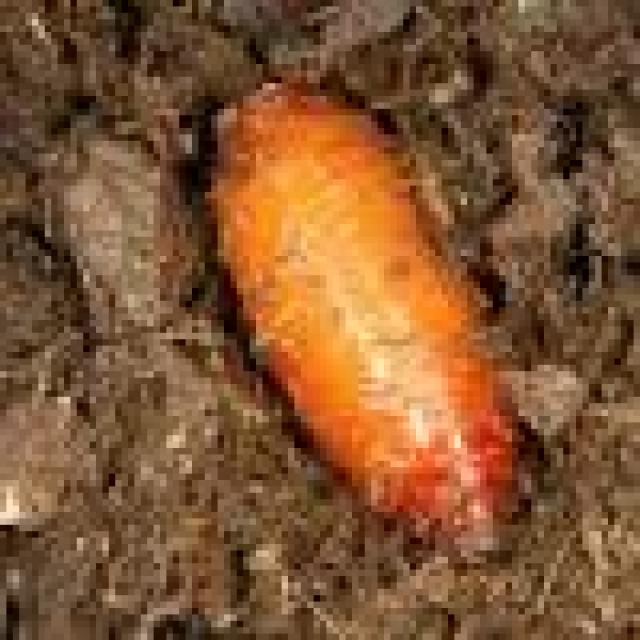Stale_Carrot: (204, 91, 516, 576)
